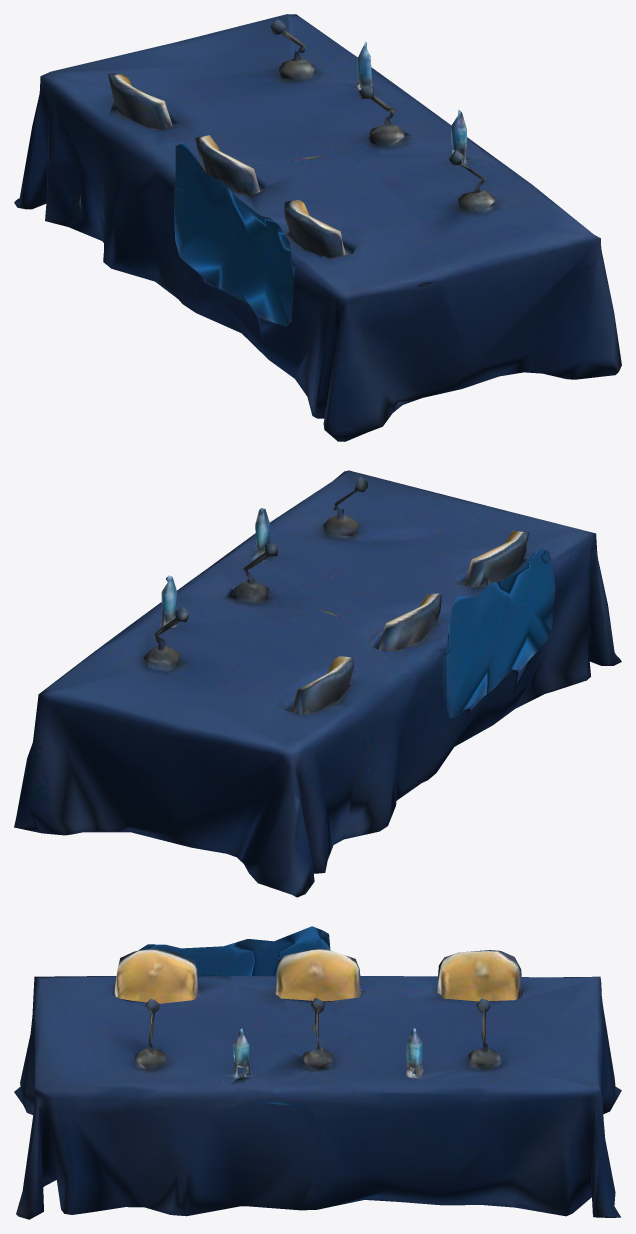
The model's file is innen_podium.glb.
3 views of the same model, one above another, from view 1: azimuth 30°, elevation 25°; view 2: azimuth 150°, elevation 25°; view 3: azimuth 270°, elevation 25° (orthographic). The views are drawn at different scales.
Parts seen in each view (by area): view 1: tripo_node_ed4d6a1c-d08b-4602-8445-ce93b9bc4f6f; view 2: tripo_node_ed4d6a1c-d08b-4602-8445-ce93b9bc4f6f; view 3: tripo_node_ed4d6a1c-d08b-4602-8445-ce93b9bc4f6f.
Boxes of the visible parts, x1,y1,x2,y2 form: tripo_node_ed4d6a1c-d08b-4602-8445-ce93b9bc4f6f: [14, 14, 621, 441]; tripo_node_ed4d6a1c-d08b-4602-8445-ce93b9bc4f6f: [14, 470, 621, 897]; tripo_node_ed4d6a1c-d08b-4602-8445-ce93b9bc4f6f: [14, 926, 621, 1219].
Bounding box in the file's own units: 0.5163 × 0.3266 × 0.9991.
1 material, 1 textured.
